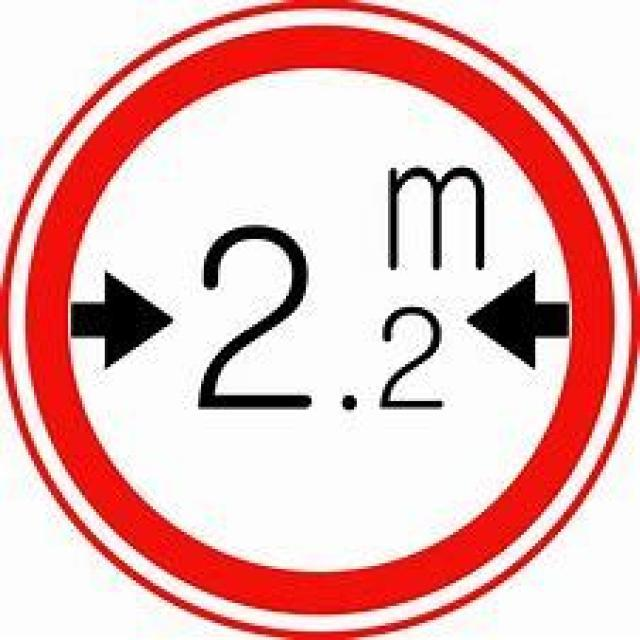width limit: (26, 28, 619, 618)
